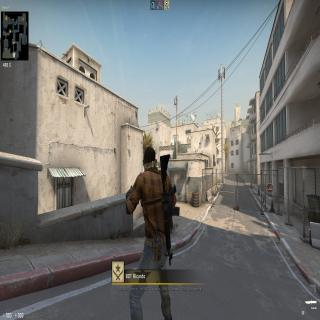T-Head: (142, 144, 158, 171)
